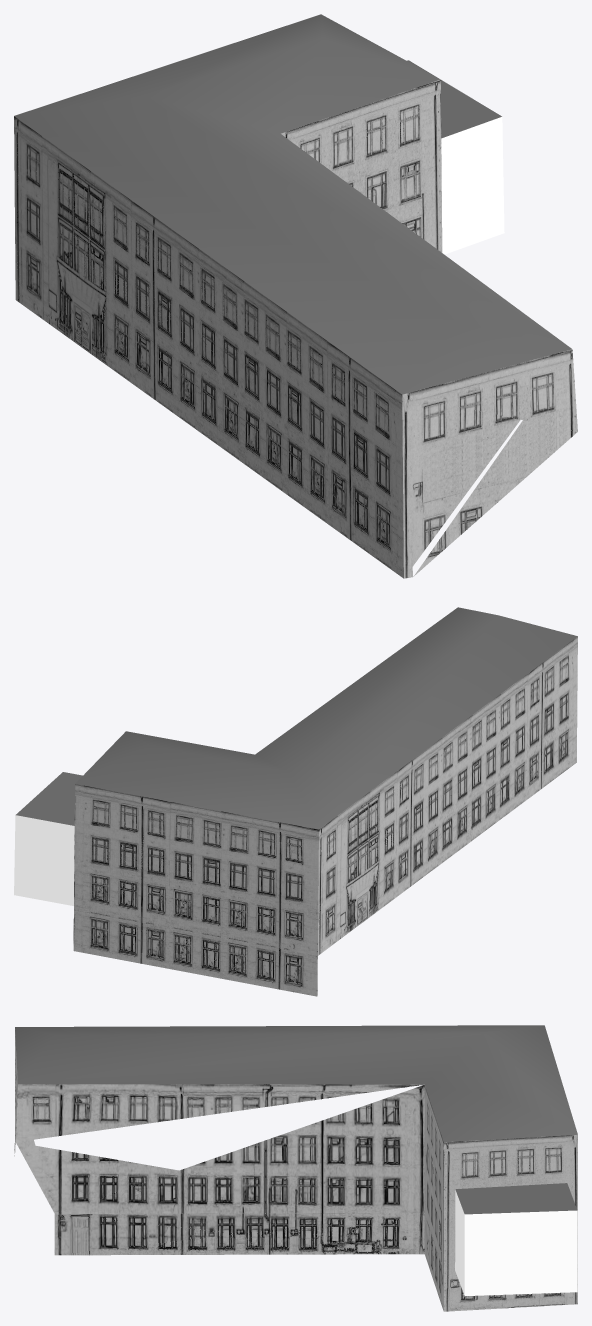
File: Toepler-Bau.gltf
3 renders of one model, top to bottom at view 1: azimuth 30°, elevation 25°; view 2: azimuth 150°, elevation 25°; view 3: azimuth 270°, elevation 25°, orthographic. The views are drawn at different scales.
Visible parts, largest first — view 1: Dach.1; view 2: Dach.1; view 3: Dach.1.
Boxes of the visible parts, x1,y1,x2,y2 form: Dach.1: (14,14,577,578); Dach.1: (14,607,577,996); Dach.1: (14,1025,577,1311).
Bounding box in the file's own units: 38.09 × 23.23 × 62.14.
Materials: 11 (9 with a texture image).
